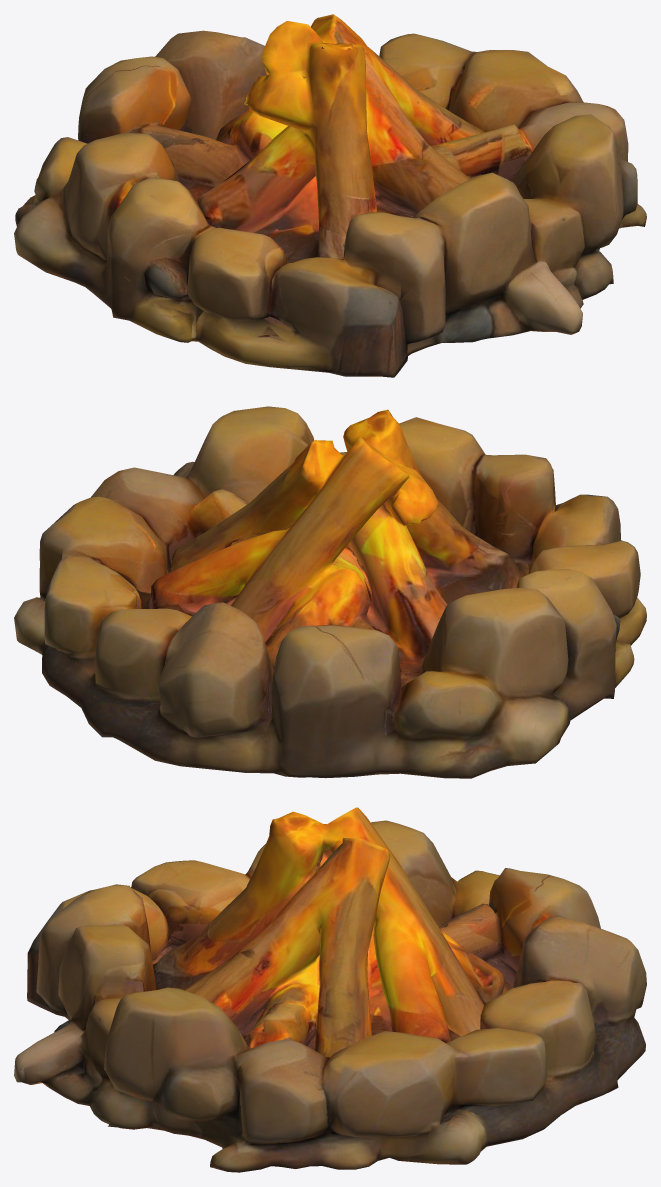
File: campfire.glb
3 renders of one model, top to bottom at view 1: azimuth 30°, elevation 25°; view 2: azimuth 150°, elevation 25°; view 3: azimuth 270°, elevation 25°, orthographic. The views are drawn at different scales.
Size of the model in its own units: 1.81 by 0.7409 by 1.91.
1 material, 1 textured.
